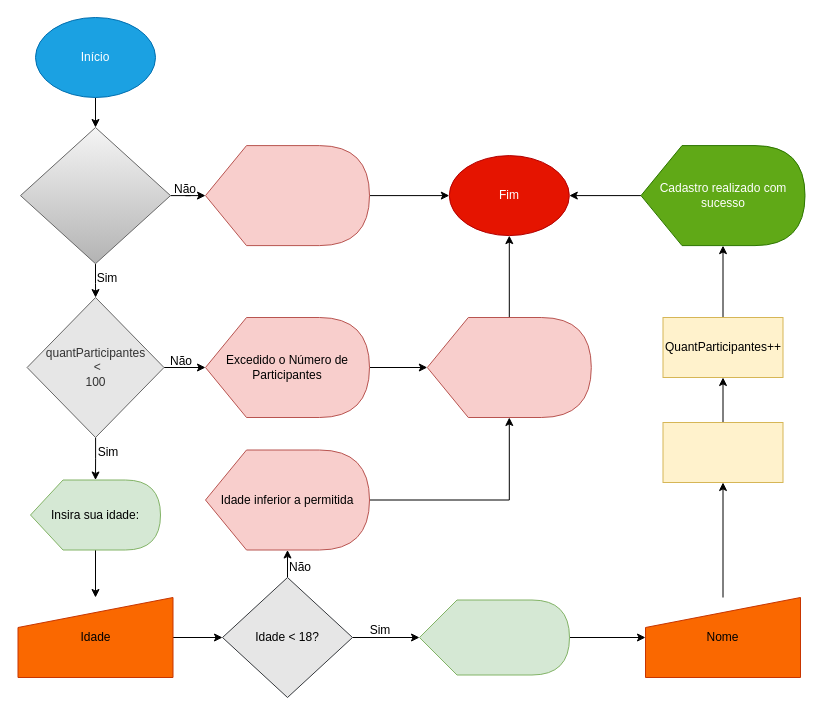
Image size: 822x715. Some labels were removed from this diagram. Here are the shapes that lost their labels. From the top down, the centre of each, then its label:
At (95,195): "dataAtual < dataEvento".
At (287,195): "Data atual superior a data do evento".
At (508,367): "Cadastro não permitido".
At (722,452): "Adicionado Nome na Lista".
At (494,637): "Insira seu nome:".
